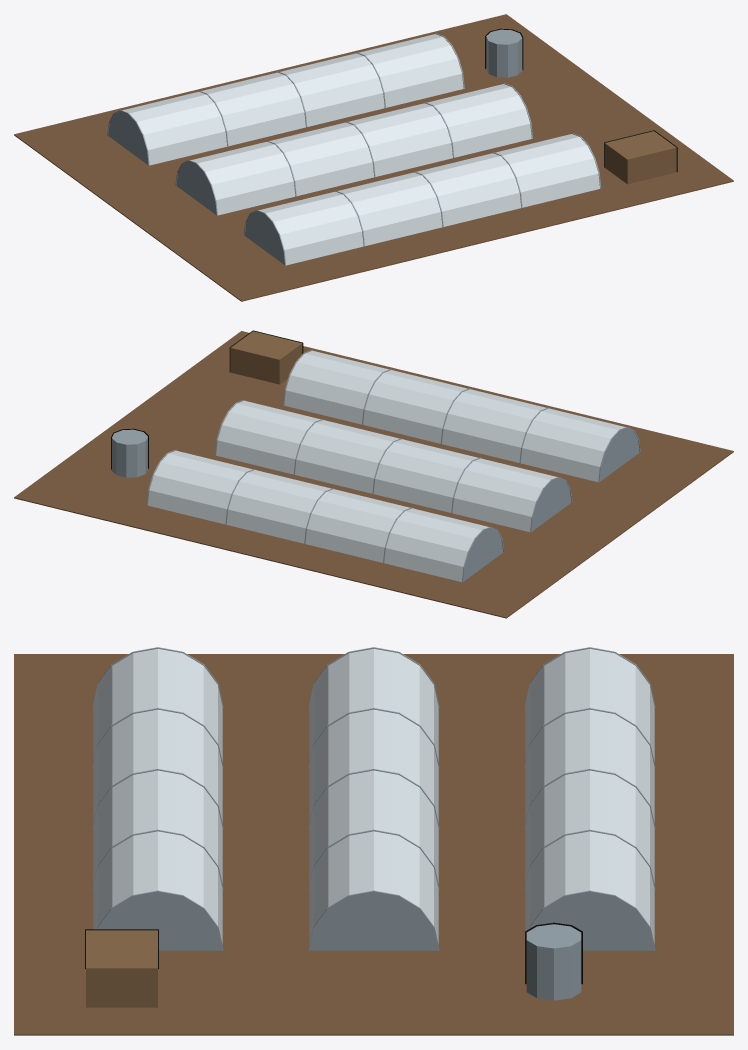
Rendered from Kir_alan_sera_1.fbx.
The picture shows the model from 3 angles, top to bottom: view 1: azimuth 30°, elevation 25°; view 2: azimuth 150°, elevation 25°; view 3: azimuth 270°, elevation 25°; orthographic projection. The views are drawn at different scales.
Visible parts, largest first — view 1: Kir_alan_sera_1; view 2: Kir_alan_sera_1; view 3: Kir_alan_sera_1.
Boxes of the visible parts, x1,y1,x2,y2 form: Kir_alan_sera_1: (14,14,733,301); Kir_alan_sera_1: (14,330,733,618); Kir_alan_sera_1: (14,647,733,1035).
Bounding box in the file's own units: 50 × 3.75 × 40.
